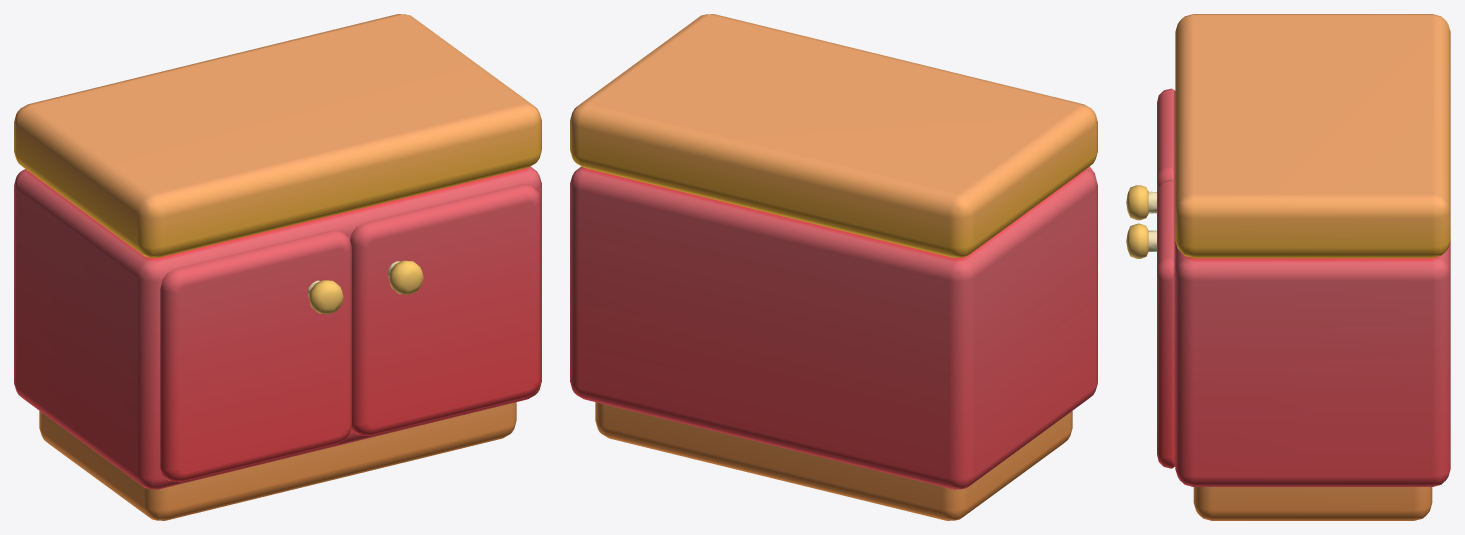
The model's file is Kitchen_Cabinet_001.glb.
3 views of the same model, side by side, from view 1: azimuth 30°, elevation 25°; view 2: azimuth 150°, elevation 25°; view 3: azimuth 270°, elevation 25° (orthographic).
Visible parts, largest first — view 1: Kitchen_Cabinet_001; view 2: Kitchen_Cabinet_001; view 3: Kitchen_Cabinet_001.
Boxes of the visible parts, <box> form: Kitchen_Cabinet_001: <box>14,14,541,520</box>; Kitchen_Cabinet_001: <box>570,14,1097,520</box>; Kitchen_Cabinet_001: <box>1126,14,1450,520</box>.
Bounding box in the file's own units: 1.06 × 0.8503 × 0.7511.
Materials: 1 (1 with a texture image).
